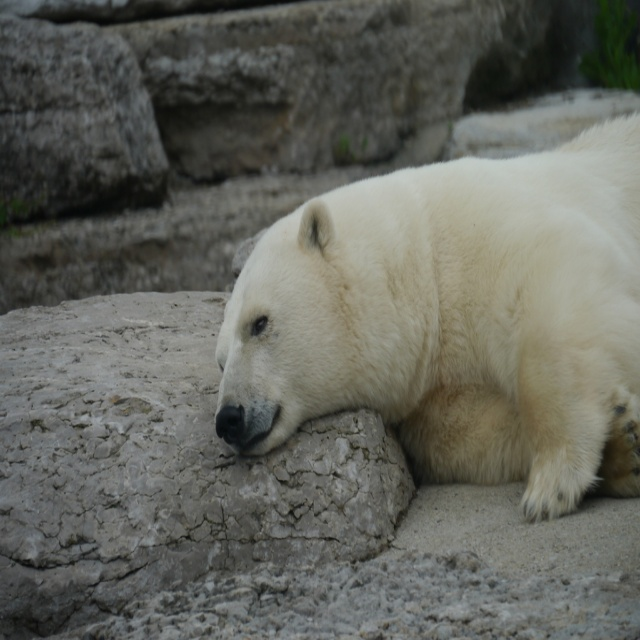Polar bear: (214, 106, 640, 528)
